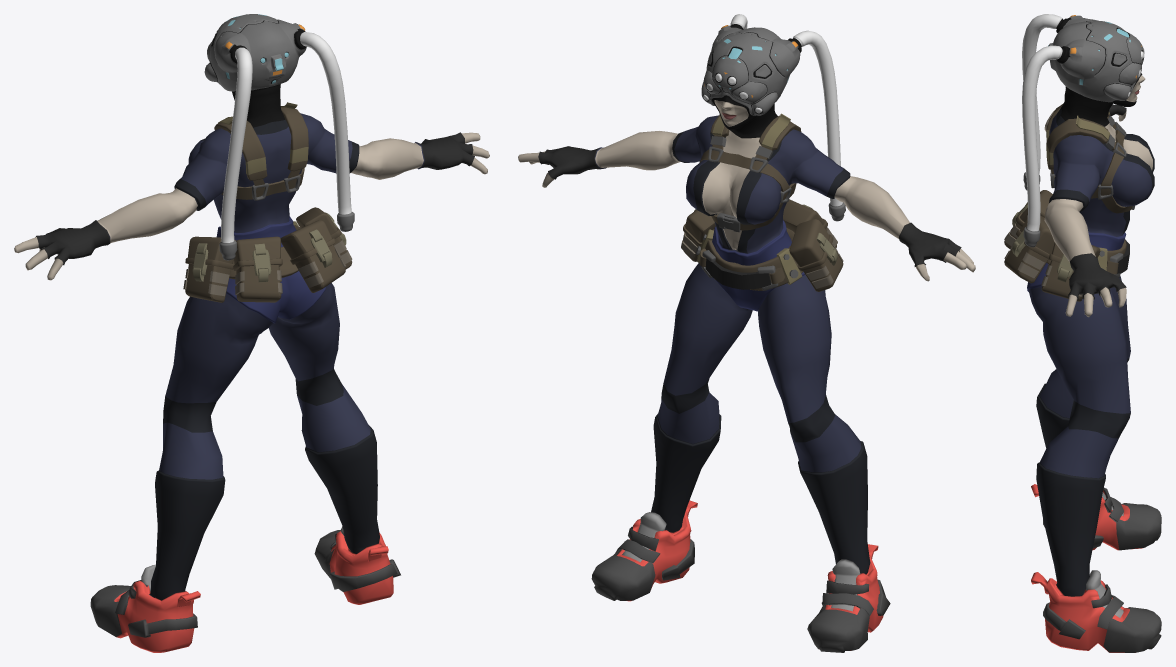
File: boss_chrono_phantom.glb
3 renders of one model, left to right at view 1: azimuth 30°, elevation 25°; view 2: azimuth 150°, elevation 25°; view 3: azimuth 270°, elevation 25°, orthographic. The views are drawn at different scales.
Visible parts, largest first — view 1: Plane.002, Agent.005, Agent.003, Plane; view 2: Plane.002, Agent.003, Plane, Agent.001, Agent.005; view 3: Plane.002, Plane, Agent.005, Agent.003, Agent.001.
Part boxes in pixels (x1,y1,x2,y2): Plane.002: (14,14,489,652); Agent.005: (233,220,345,302); Agent.003: (183,207,352,302); Plane: (214,102,308,200); Plane.002: (518,14,975,652); Agent.003: (681,209,843,291); Plane: (699,113,801,232); Agent.001: (696,228,803,290); Agent.005: (783,199,837,248); Plane.002: (1022,14,1161,652); Plane: (1046,103,1134,213); Agent.005: (1004,190,1054,283); Agent.003: (1041,242,1100,301); Agent.001: (1046,239,1129,277).
Size of the model in its own units: 1.64 by 2 by 0.5003.
